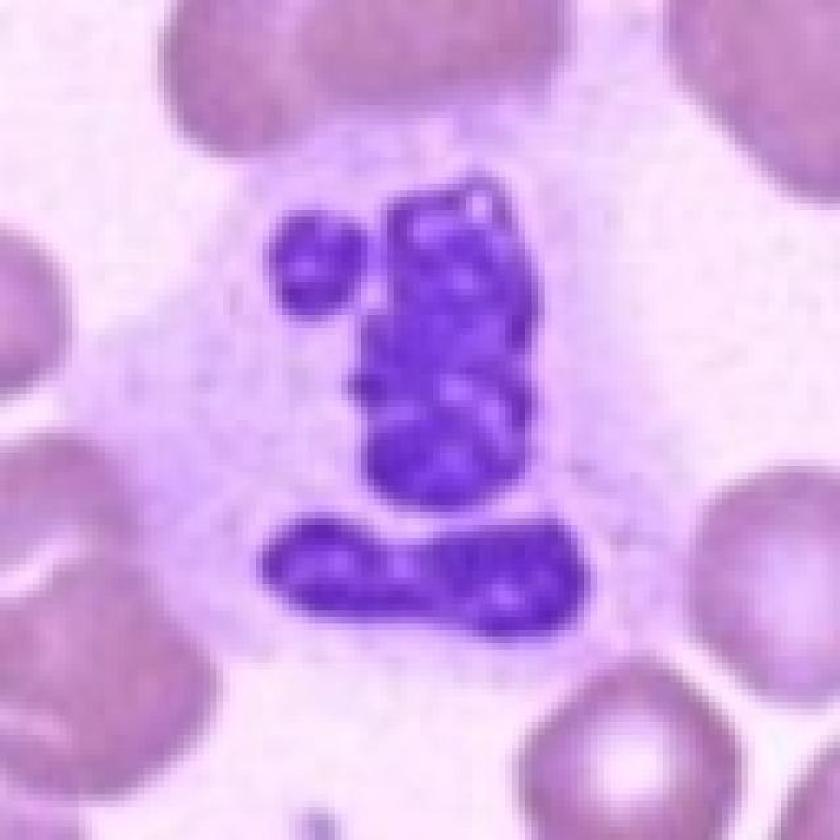neutrophil: (81, 92, 709, 701)
